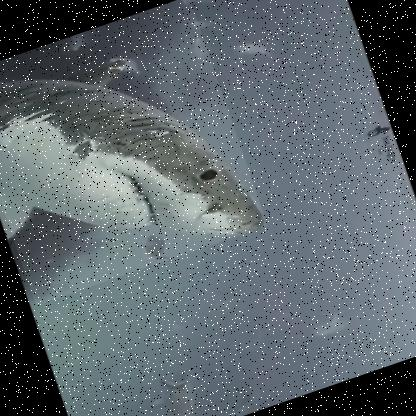white-shark: (0, 0, 270, 307)
